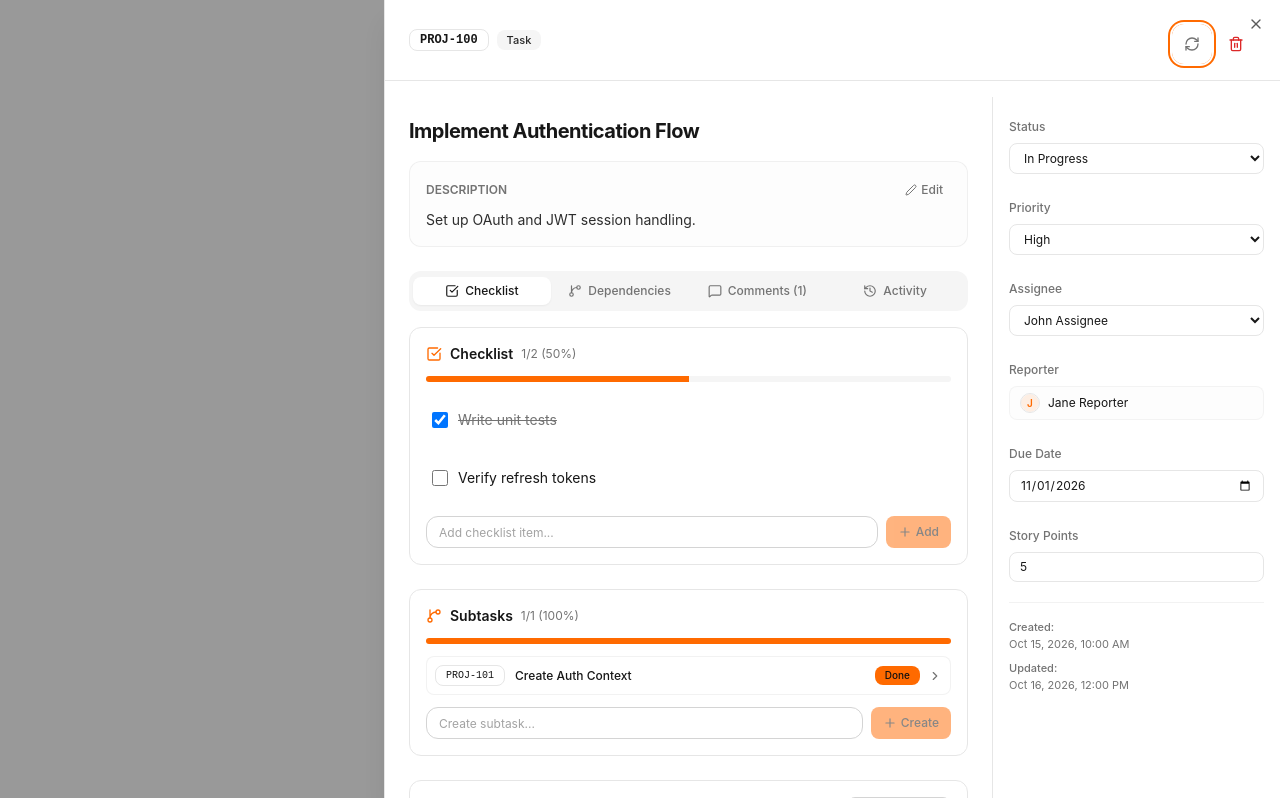
TaskDetailSheet › creates a subtask
Expected: the text "PROJ-100" is shown, [409, 29, 489, 51]
Type "Write migration script" into the field with placeholder "Create subtask...".
click(644, 723); type("Write migration script")  # box [426, 707, 863, 739]
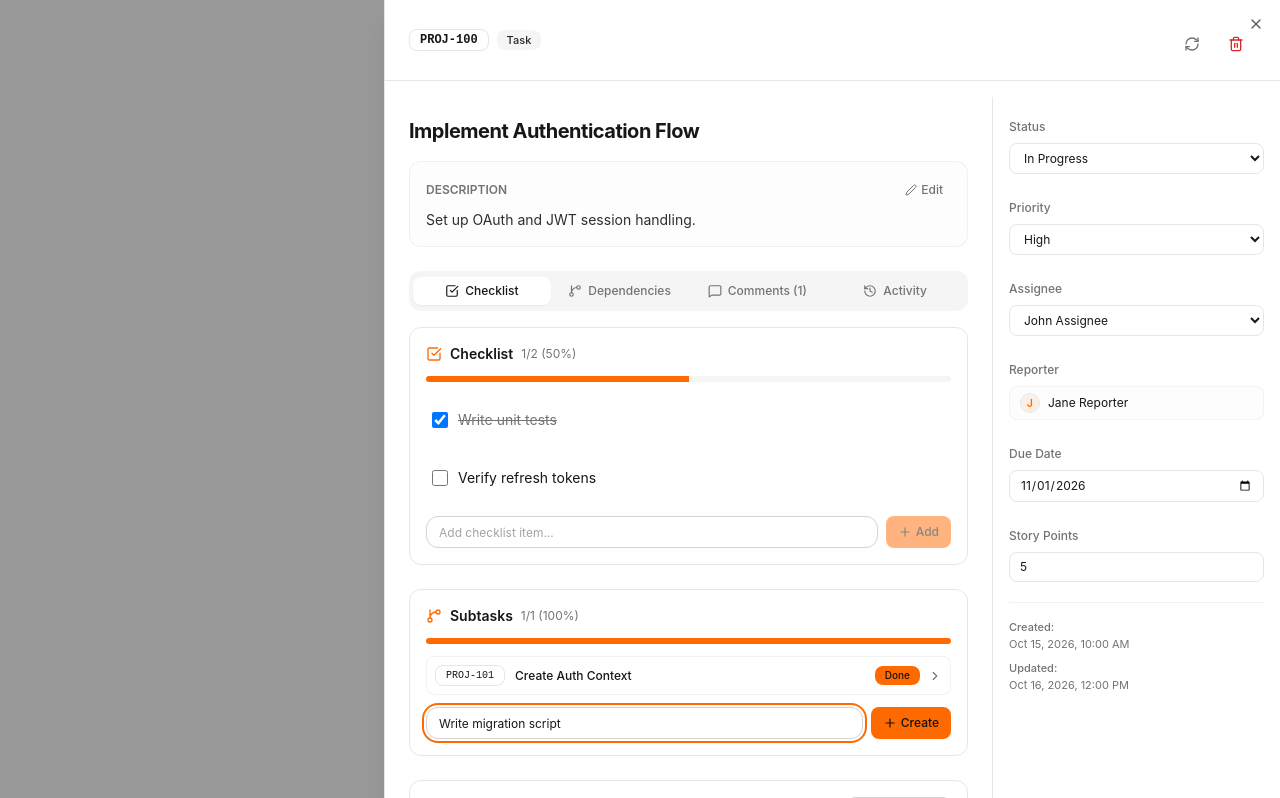
Click the button "Create".
click(911, 723)  # box [871, 707, 951, 739]
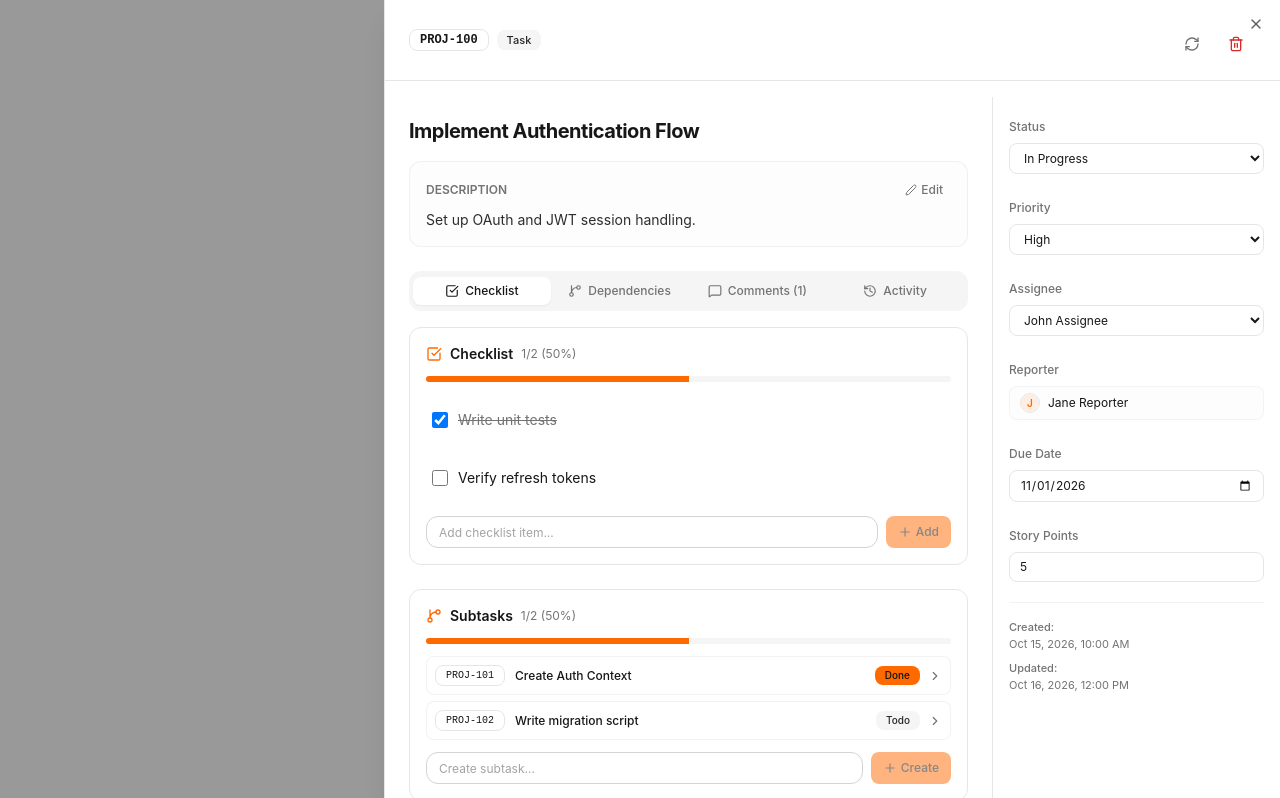
Result: the text "Write migration script" is shown at [515, 712, 638, 728]
